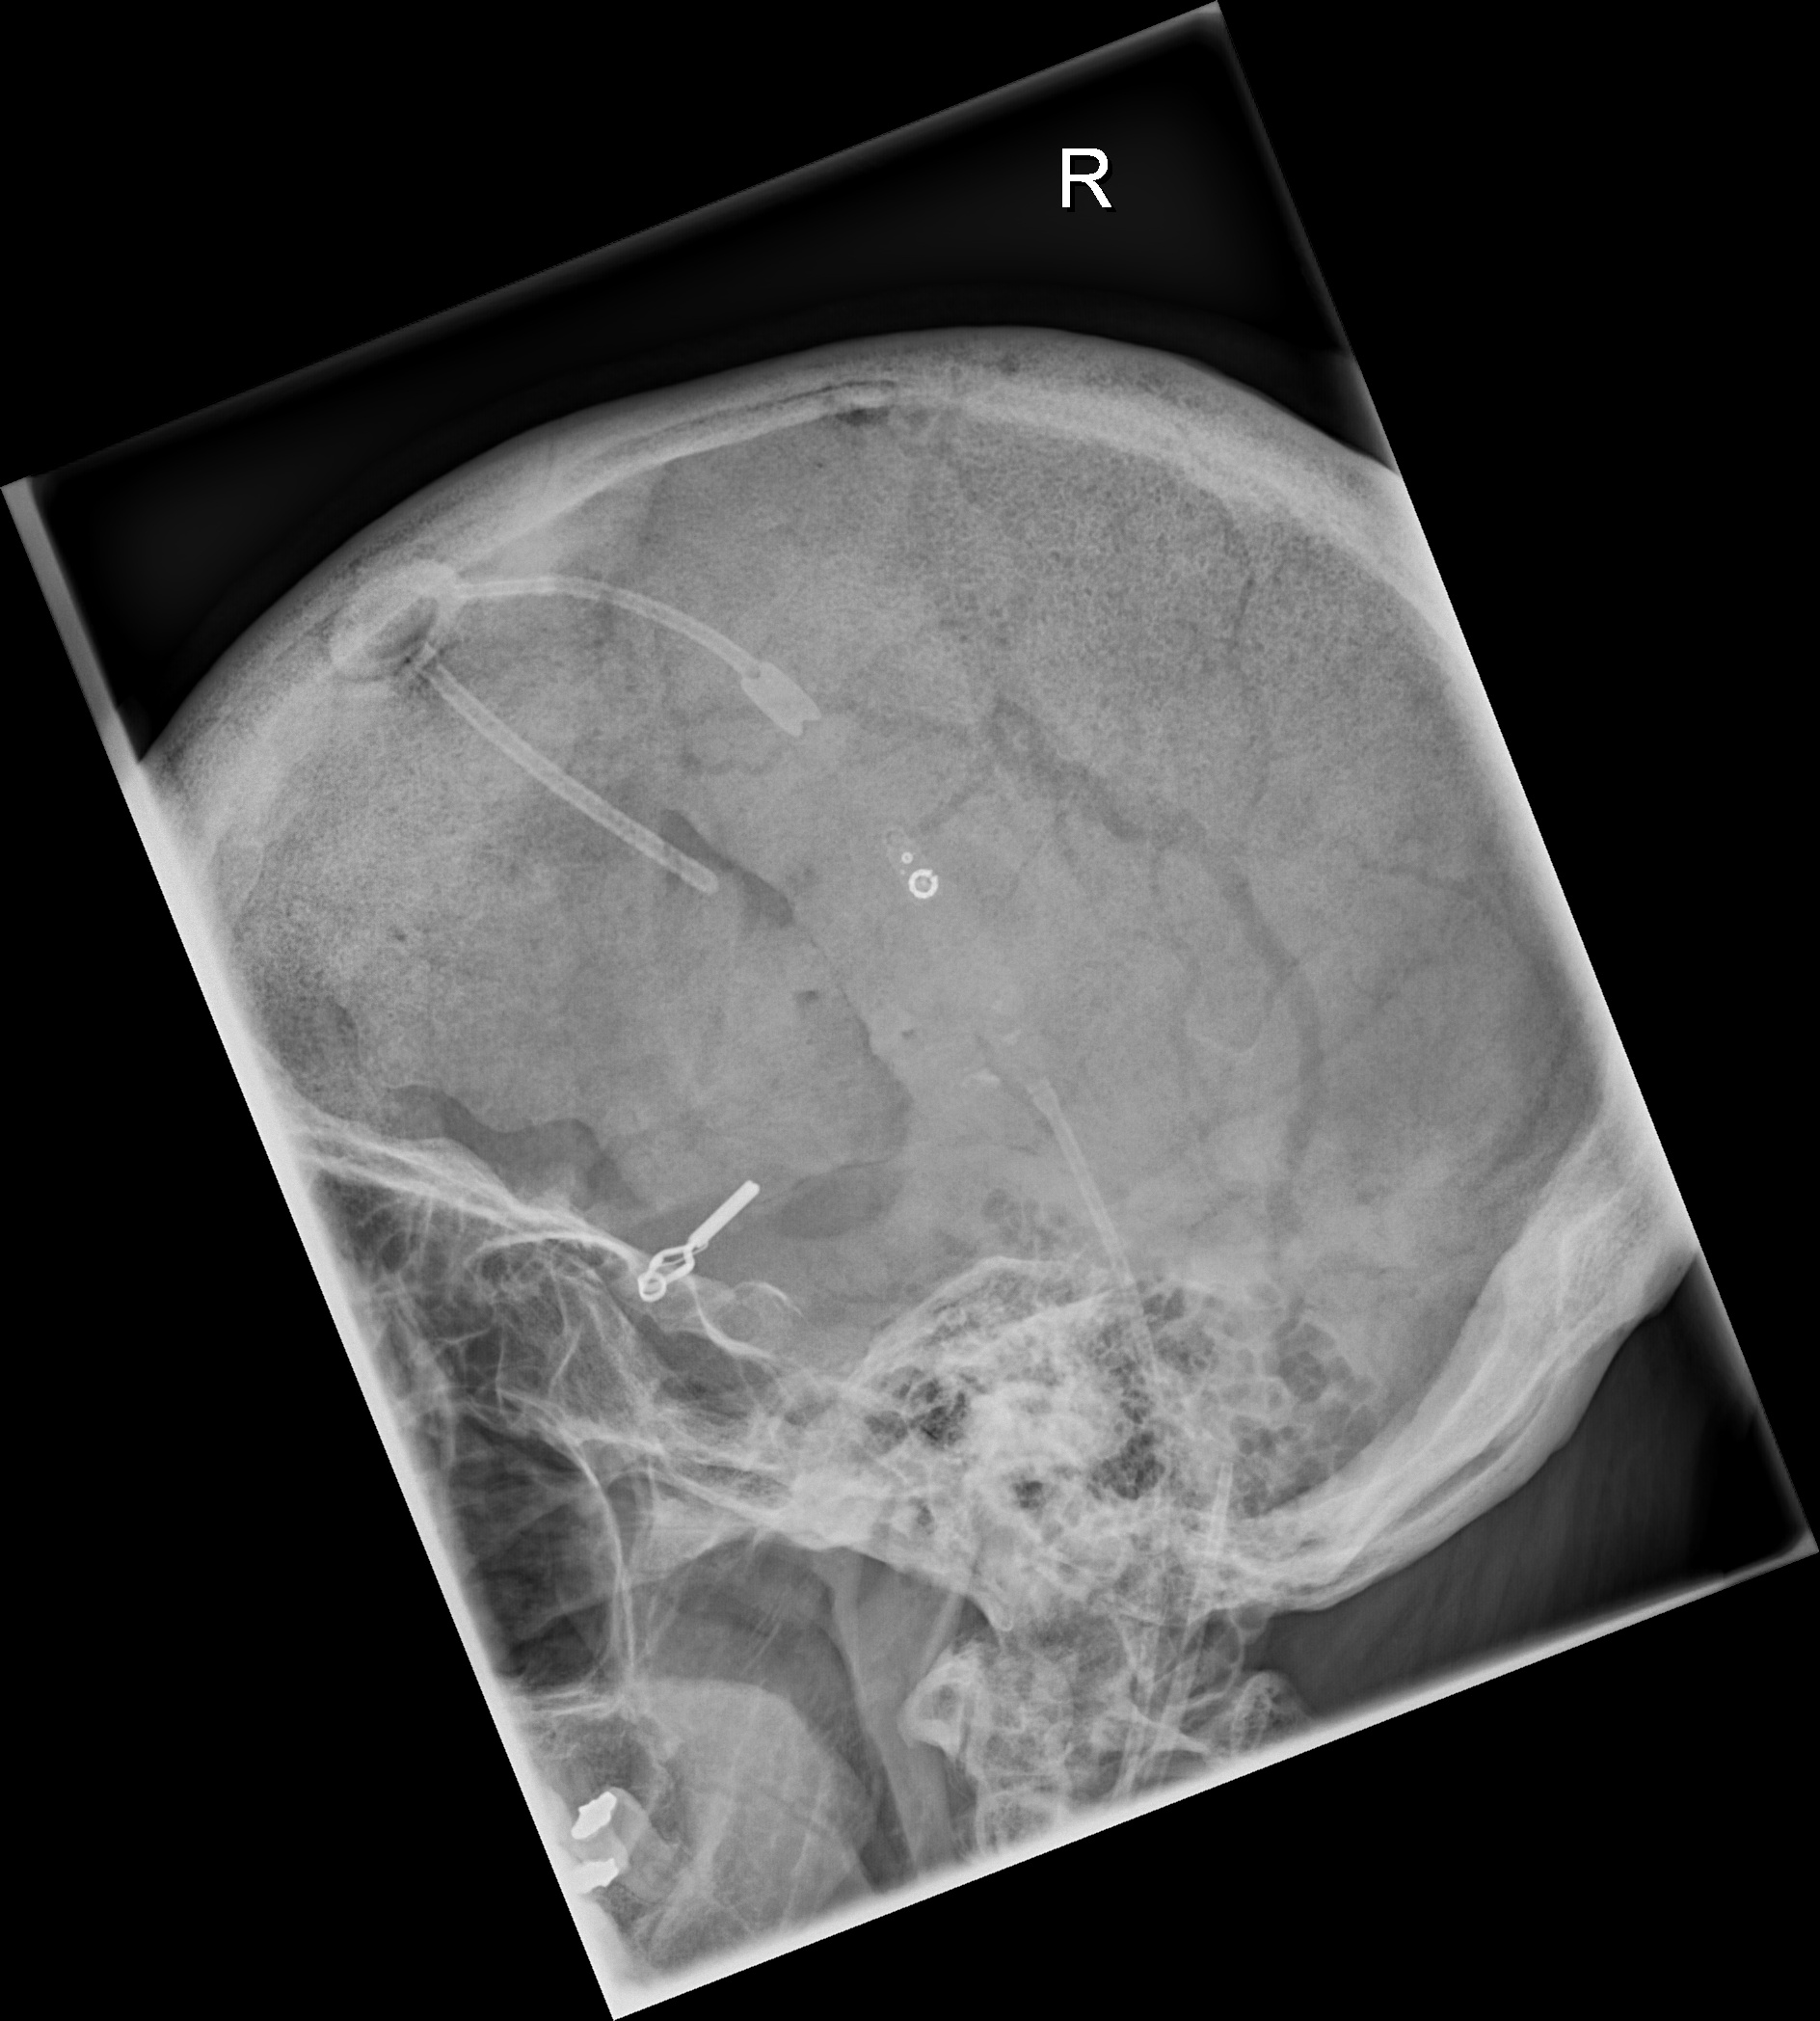Codman Hakim: (884, 835, 949, 919)
